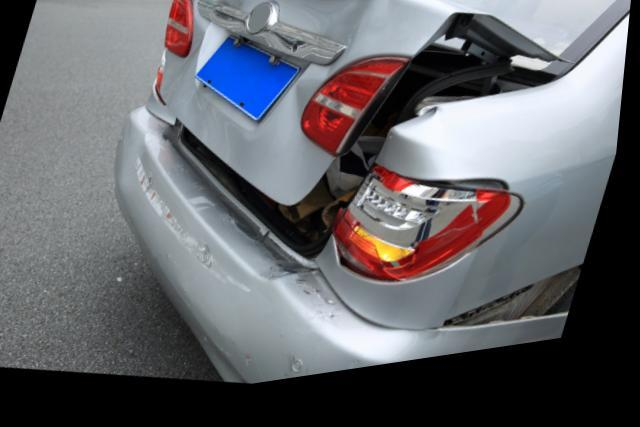dent: (202, 0, 376, 57)
dislocated part: (165, 0, 574, 272), (219, 276, 591, 392)
lamp broken: (338, 173, 513, 293)
scratch: (135, 158, 261, 304)
